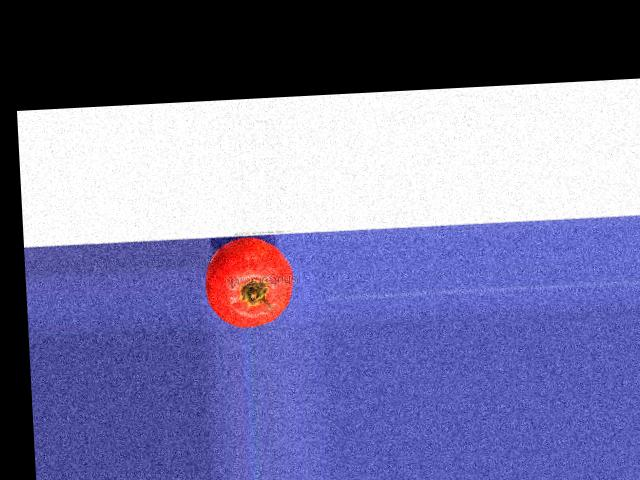tomato: (202, 236, 295, 329)
